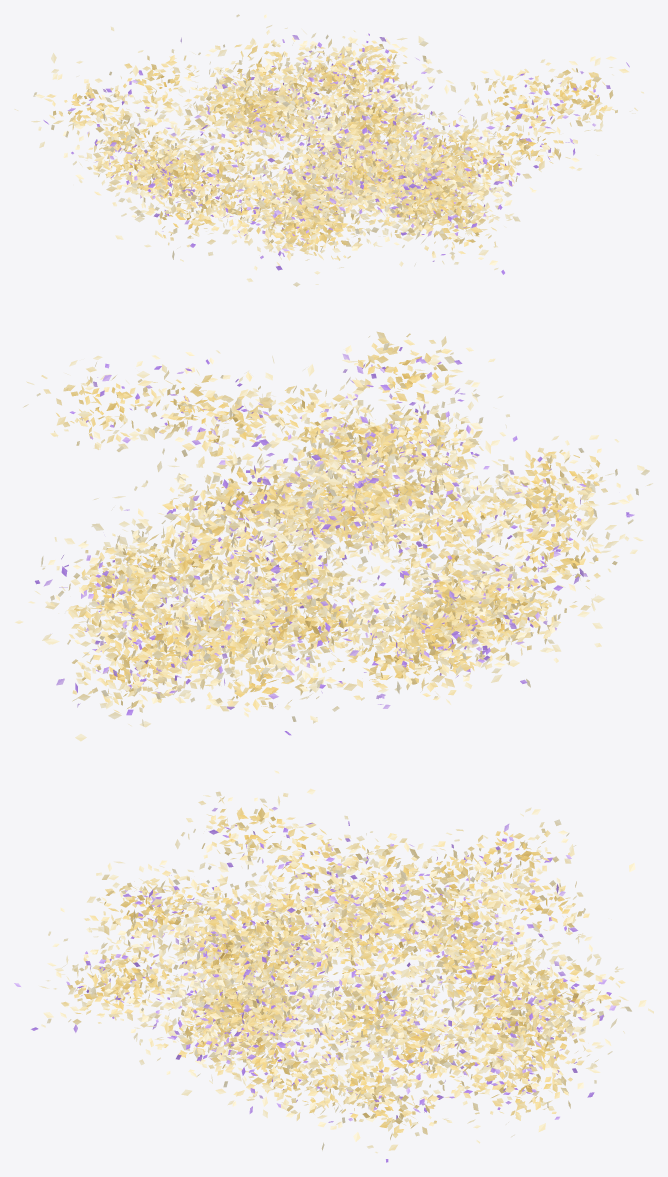
The model's file is holy_canopy4.glb.
3 views of the same model, one above another, from view 1: azimuth 30°, elevation 25°; view 2: azimuth 150°, elevation 25°; view 3: azimuth 270°, elevation 25° (orthographic). The views are drawn at different scales.
Visible parts, largest first — view 1: holy_canopy4; view 2: holy_canopy4; view 3: holy_canopy4.
Boxes of the visible parts, <box> form: holy_canopy4: <box>14,14,643,286</box>; holy_canopy4: <box>15,331,652,741</box>; holy_canopy4: <box>14,770,653,1162</box>.
Bounding box in the file's own units: 36.51 × 17.21 × 34.92.
1 material, 1 textured.
